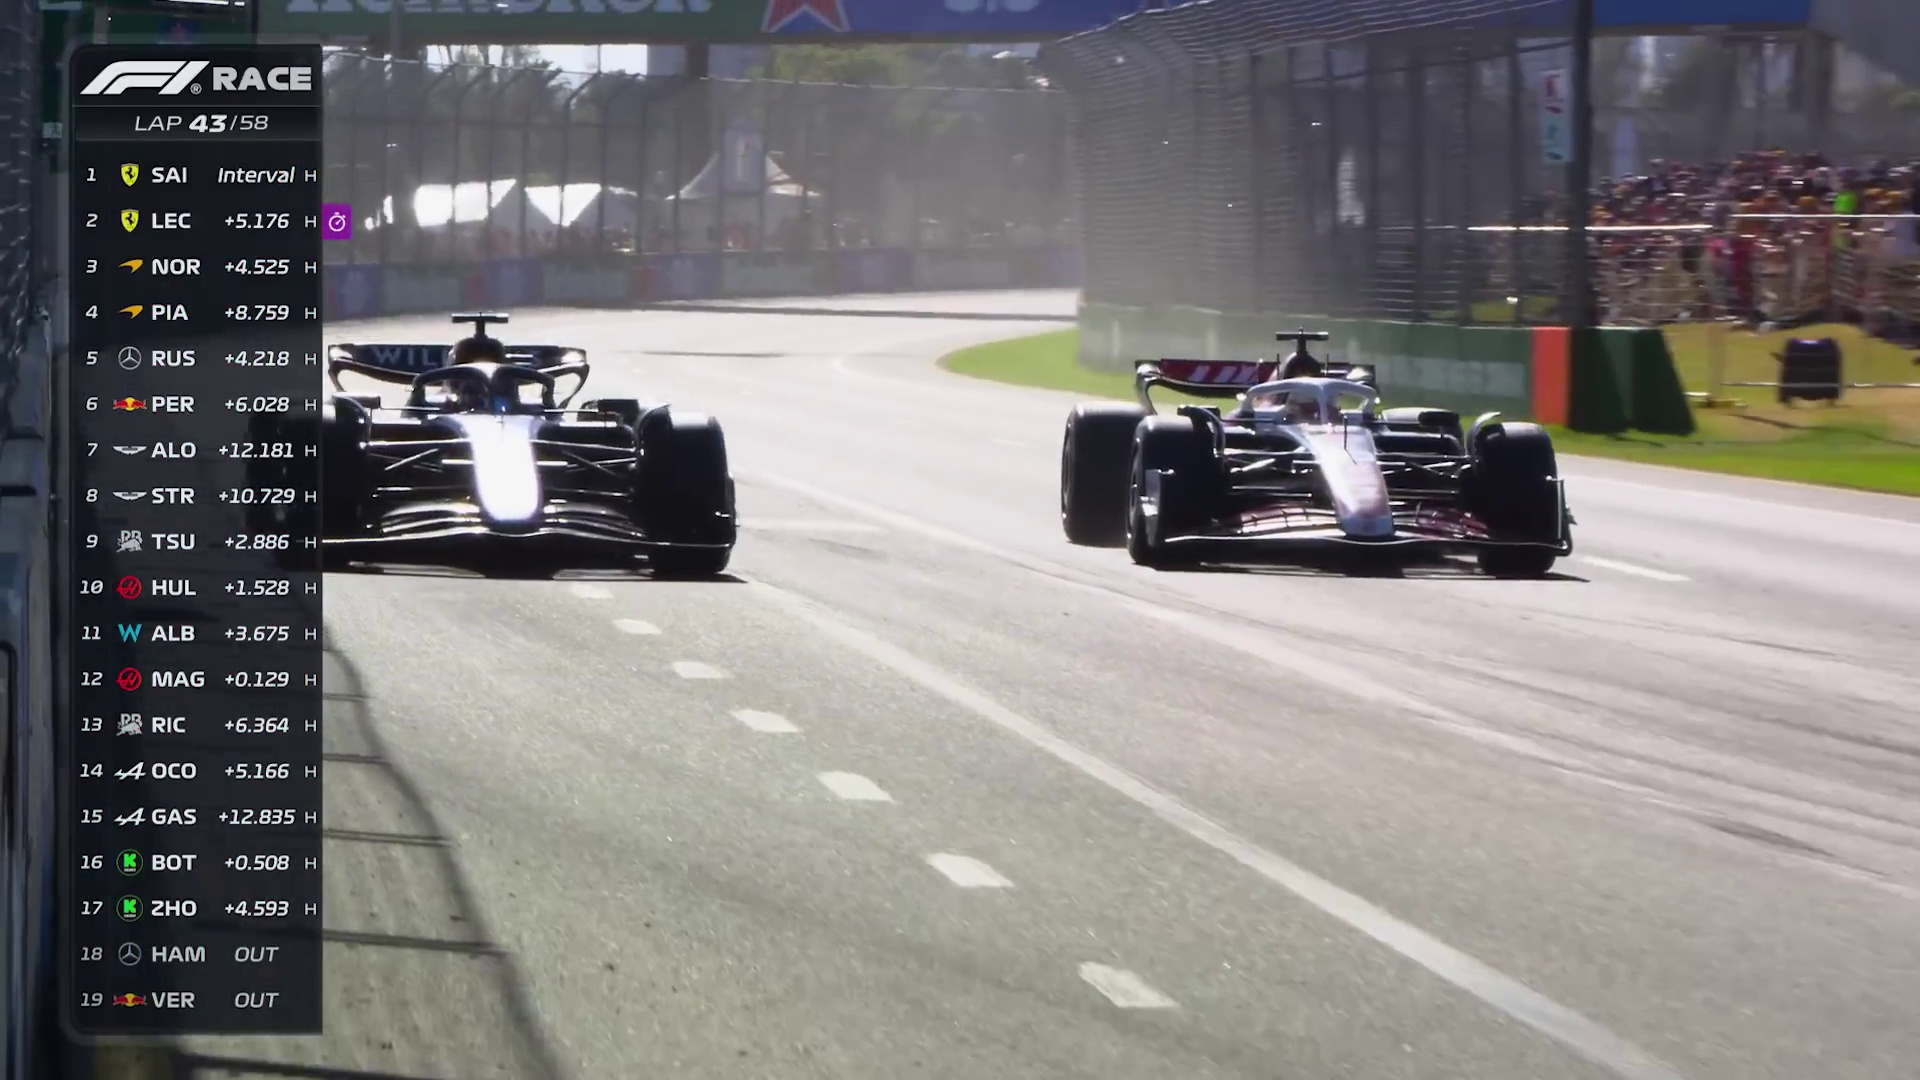Haas: (1065, 355, 1565, 572)
Willliams: (266, 348, 731, 564)
